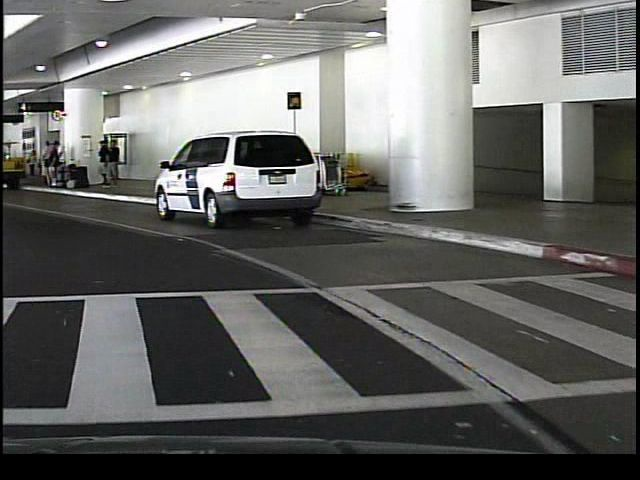person: (35, 137, 50, 188), (106, 138, 120, 187)
